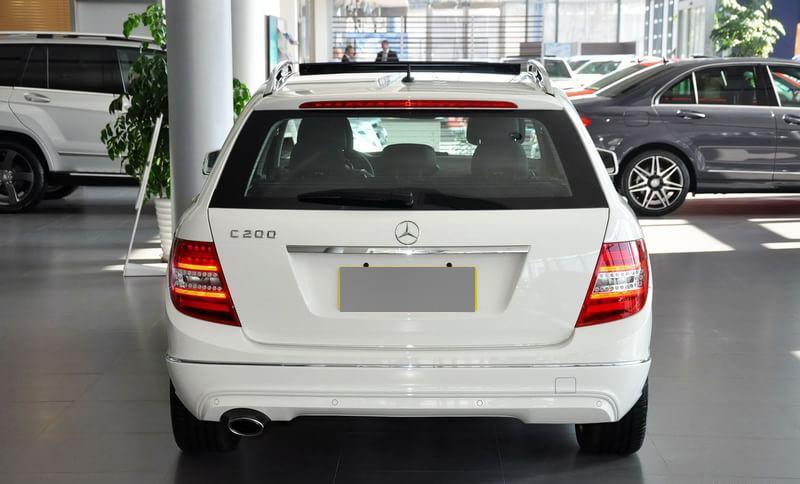Wagon: (161, 57, 655, 456)
